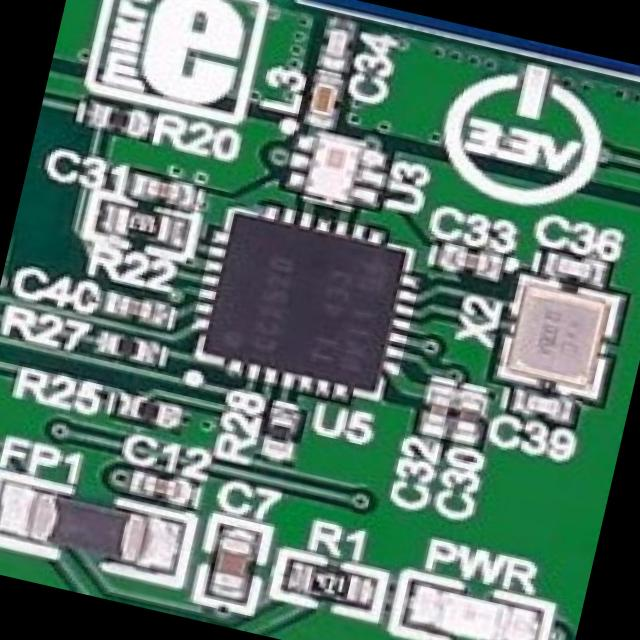IC: (185, 192, 428, 408)
LED: (402, 575, 528, 640)
capacitor: (23, 486, 165, 574), (200, 523, 270, 603), (127, 473, 189, 508), (126, 171, 189, 205), (448, 394, 484, 440), (421, 392, 458, 434)
resistor: (94, 200, 183, 250), (287, 559, 364, 605), (125, 396, 177, 428), (260, 415, 298, 457)
